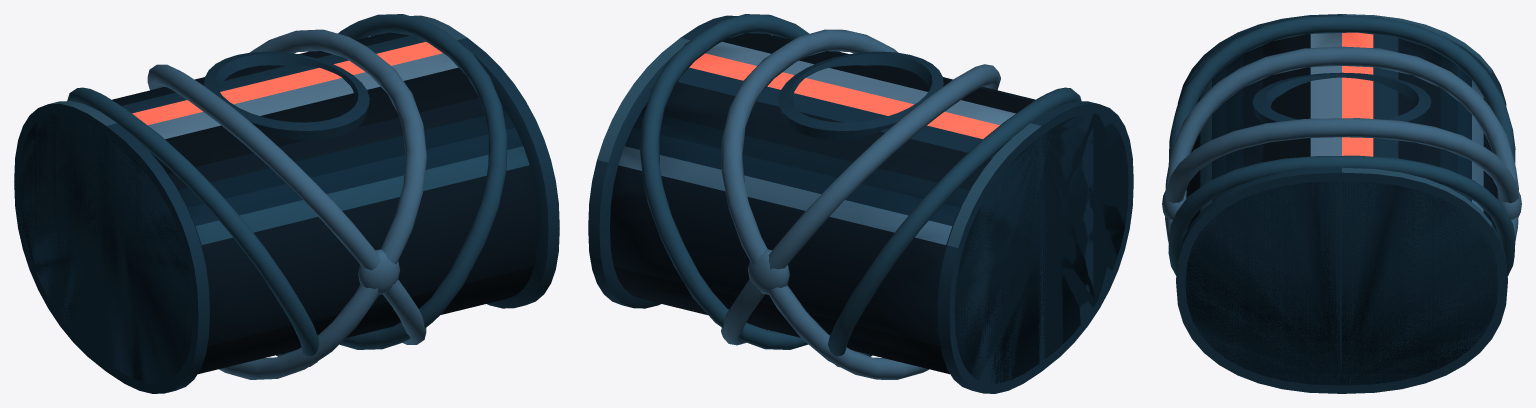
The model's file is maze_pipe_cage_115.glb.
3 views of the same model, side by side, from view 1: azimuth 30°, elevation 25°; view 2: azimuth 150°, elevation 25°; view 3: azimuth 270°, elevation 25° (orthographic). The views are drawn at different scales.
Parts seen in each view (by area): view 1: cage_pipe, collar0.0, plain, band_mid1, band_out1, band_mid-1, band_out-1, collar24.0, core_rim, boss-1; view 2: cage_pipe, plain, collar0.0, band_mid1, band_out1, band_mid-1, band_out-1, collar24.0, core_rim, boss1; view 3: cage_pipe, end_r, collar24.0, band_mid-1, band_mid1, band_out-1, band_out1, core_rim, collar0.0, boss-1, boss1.
Boxes of the visible parts, x1=… form: cage_pipe: x1=19, y1=32, x2=537, y2=383; collar0.0: x1=14, y1=101, x2=210, y2=393; plain: x1=19, y1=114, x2=192, y2=382; band_mid1: x1=219, y1=29, x2=426, y2=379; band_out1: x1=338, y1=14, x2=507, y2=349; band_mid-1: x1=147, y1=64, x2=426, y2=344; band_out-1: x1=67, y1=87, x2=319, y2=366; collar24.0: x1=410, y1=15, x2=559, y2=308; core_rim: x1=204, y1=51, x2=369, y2=140; boss-1: x1=358, y1=249, x2=399, y2=294; cage_pipe: x1=610, y1=33, x2=1125, y2=383; plain: x1=955, y1=114, x2=1128, y2=382; collar0.0: x1=937, y1=101, x2=1133, y2=393; band_mid1: x1=721, y1=29, x2=928, y2=379; band_out1: x1=640, y1=14, x2=809, y2=349; band_mid-1: x1=721, y1=64, x2=1000, y2=345; band_out-1: x1=828, y1=87, x2=1081, y2=367; collar24.0: x1=588, y1=15, x2=770, y2=308; core_rim: x1=778, y1=51, x2=943, y2=140; boss1: x1=748, y1=249, x2=789, y2=294; cage_pipe: x1=1185, y1=32, x2=1498, y2=385; end_r: x1=1186, y1=181, x2=1498, y2=385; collar24.0: x1=1176, y1=167, x2=1507, y2=393; band_mid-1: x1=1165, y1=46, x2=1518, y2=243; band_mid1: x1=1165, y1=118, x2=1518, y2=203; band_out-1: x1=1168, y1=15, x2=1515, y2=164; band_out1: x1=1168, y1=155, x2=1515, y2=276; core_rim: x1=1252, y1=72, x2=1431, y2=123; collar0.0: x1=1177, y1=14, x2=1506, y2=105; boss-1: x1=1162, y1=188, x2=1186, y2=219; boss1: x1=1497, y1=189, x2=1521, y2=219.
Size of the model in its own units: 24 by 16.98 by 23.
